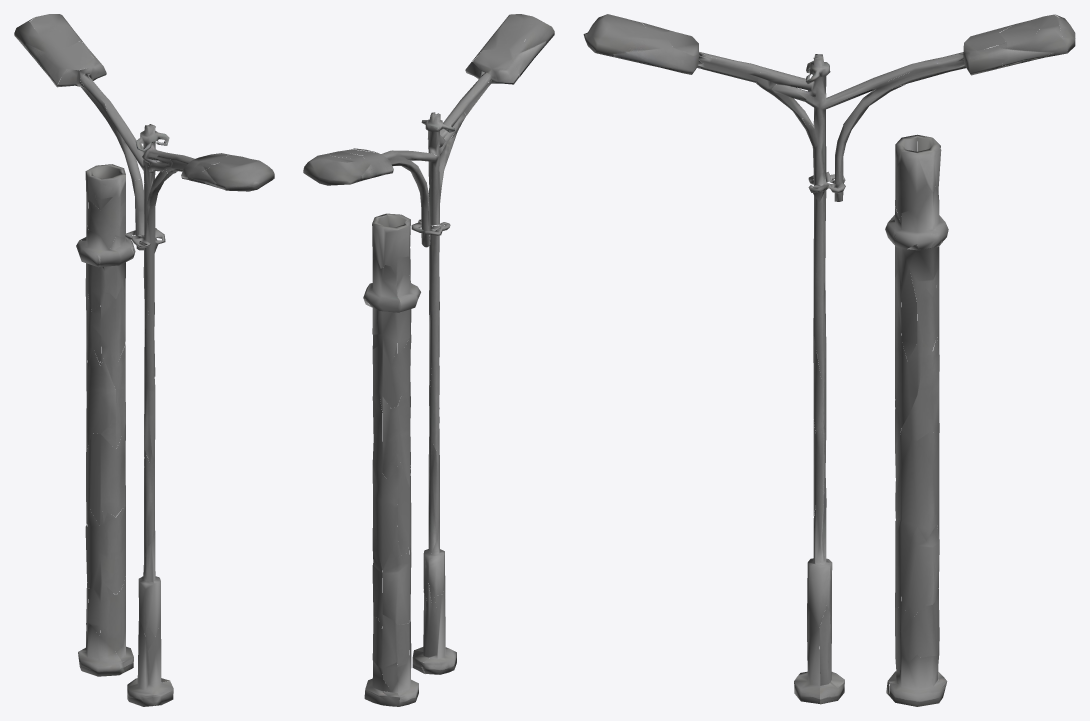
File: street_light.glb
3 views of the same model, side by side, from view 1: azimuth 30°, elevation 25°; view 2: azimuth 150°, elevation 25°; view 3: azimuth 270°, elevation 25° (orthographic). The views are drawn at different scales.
Parts seen in each view (by area): view 1: tripo_node_c061e04f-7b3b-42c2-88ce-401691686b3b; view 2: tripo_node_c061e04f-7b3b-42c2-88ce-401691686b3b; view 3: tripo_node_c061e04f-7b3b-42c2-88ce-401691686b3b.
Part boxes in pixels (bbox=[...]): tripo_node_c061e04f-7b3b-42c2-88ce-401691686b3b: bbox=[14, 14, 274, 706]; tripo_node_c061e04f-7b3b-42c2-88ce-401691686b3b: bbox=[303, 14, 554, 706]; tripo_node_c061e04f-7b3b-42c2-88ce-401691686b3b: bbox=[583, 14, 1075, 706].
Size of the model in its own units: 0.4144 by 4.5 by 2.98.
Materials: 1 (1 with a texture image).
